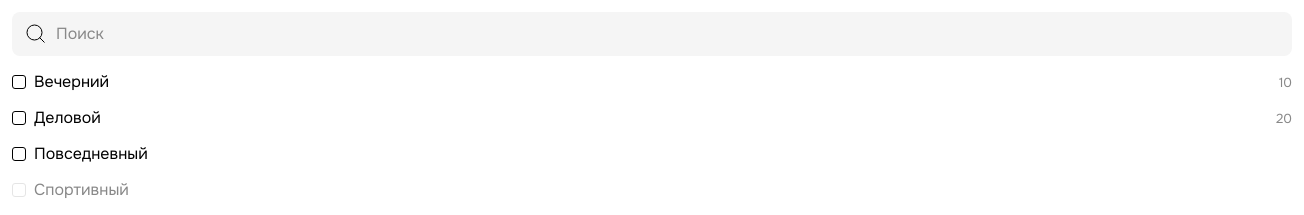
Test case: CheckboxFilterPanel › says so when nothing matches
Type "яяя" into the search field.
click(652, 34); type("яяя")  # box [12, 12, 1292, 56]
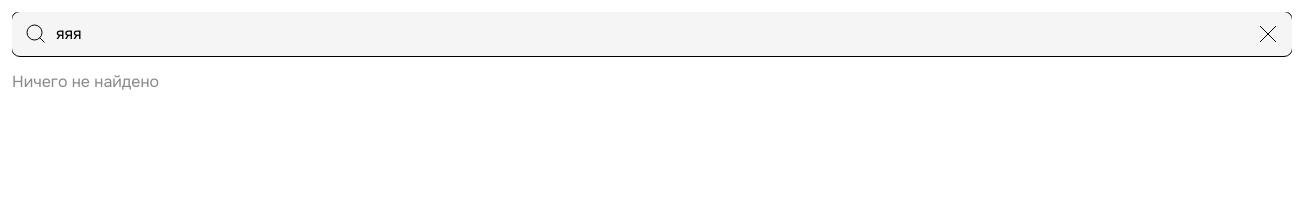
Expected: the checkbox is gone
Expected: the message reads "Ничего не найдено", [12, 71, 159, 92]
